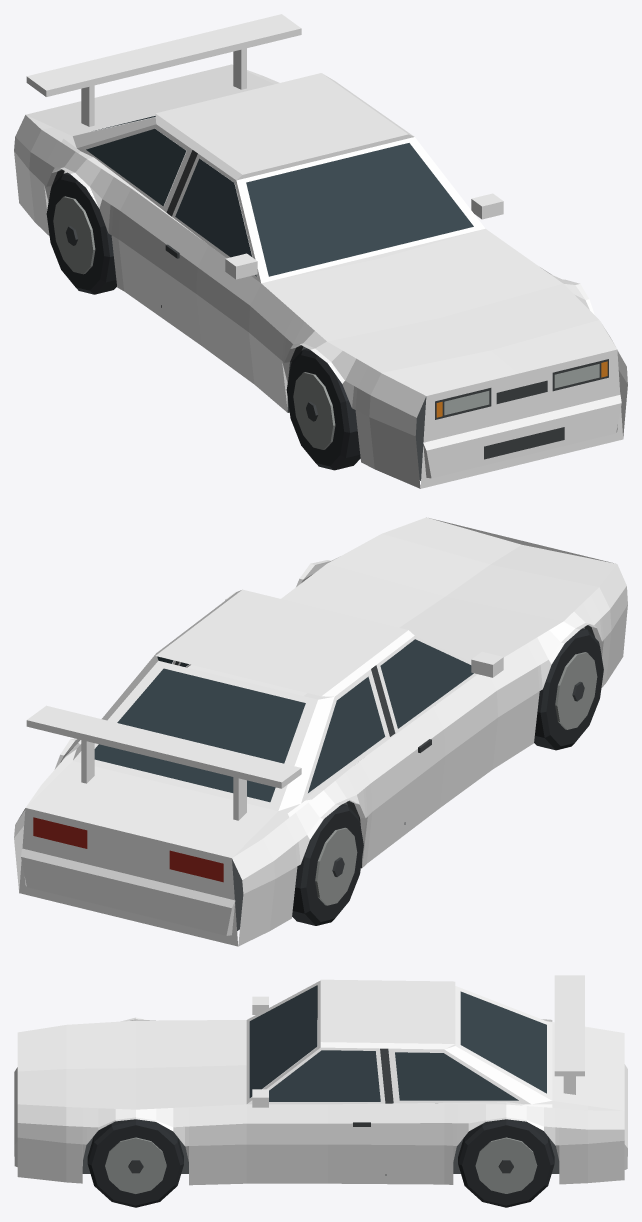
File: hayase_suisei_corrida.glb
3 views of the same model, one above another, from view 1: azimuth 30°, elevation 25°; view 2: azimuth 150°, elevation 25°; view 3: azimuth 270°, elevation 25° (orthographic). The views are drawn at different scales.
Parts seen in each view (by area): view 1: hayase_suisei_corrida; view 2: hayase_suisei_corrida; view 3: hayase_suisei_corrida.
Part boxes in pixels (left/top/right/bottom): hayase_suisei_corrida: left=14, top=14, right=627, bottom=488; hayase_suisei_corrida: left=14, top=517, right=627, bottom=946; hayase_suisei_corrida: left=14, top=975, right=627, bottom=1207.
Size of the model in its own units: 1.74 by 1.19 by 4.44.
8 materials, 1 textured.
